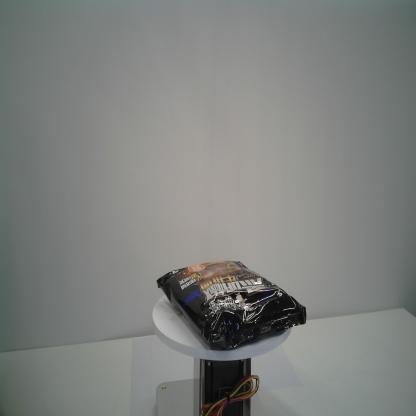Instant Noodles: (155, 259, 308, 353)
